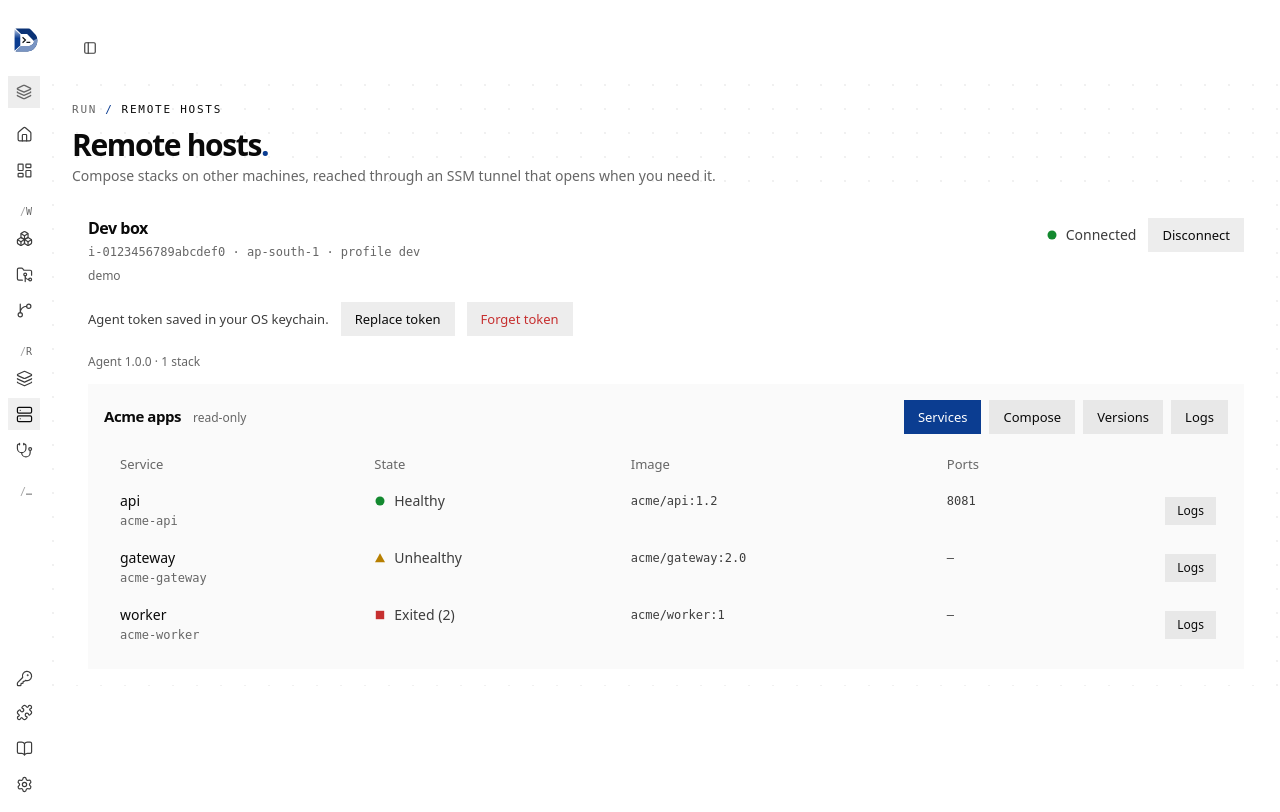
Test: the Remote hosts page › follows the logs of all services, or of the one picked
Click the tab "Logs". click: (1200, 417)
box: [1171, 400, 1228, 434]
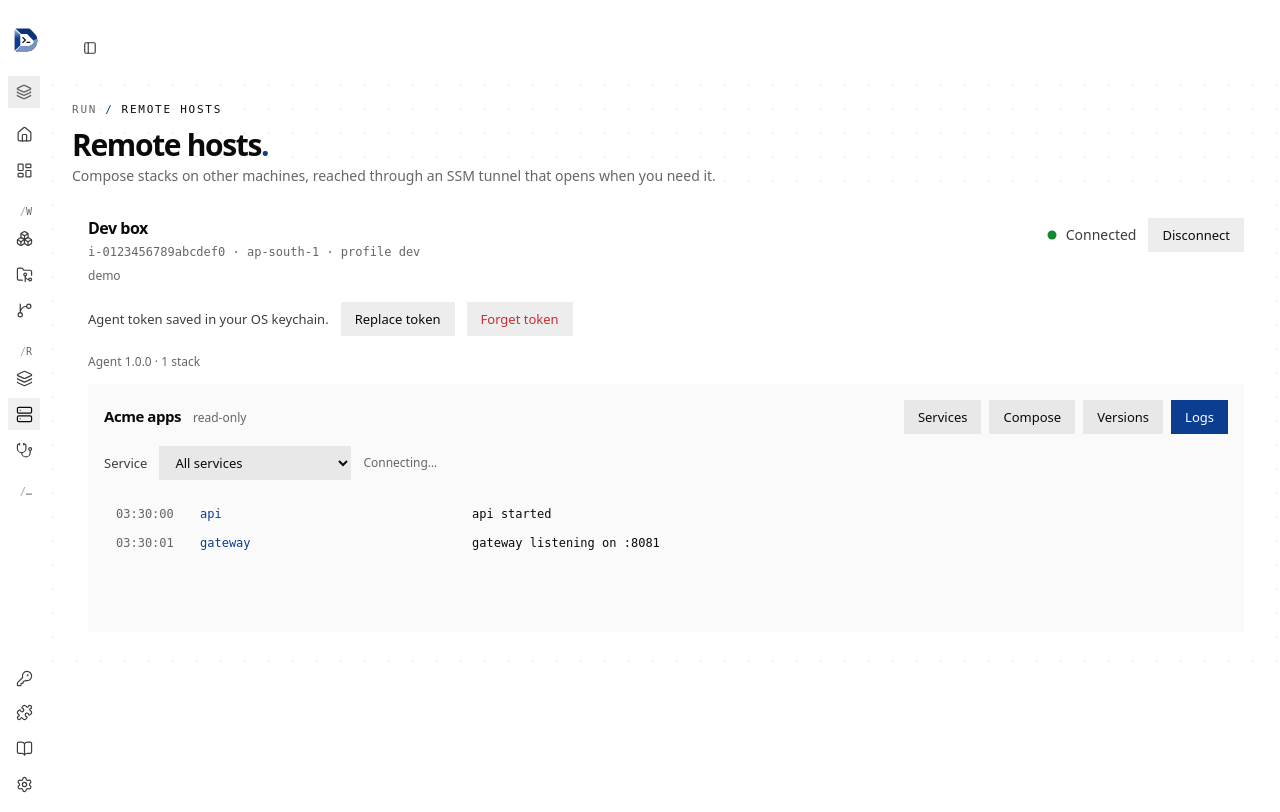
Expected: the text "api started" is shown, [472, 507, 552, 521]
Expected: the text "gateway listening on :8081" is shown, [472, 536, 660, 550]
// the Logs button of a row opens the logs of that service
Click the tab "Services". click: (943, 417)
box: [904, 400, 982, 434]
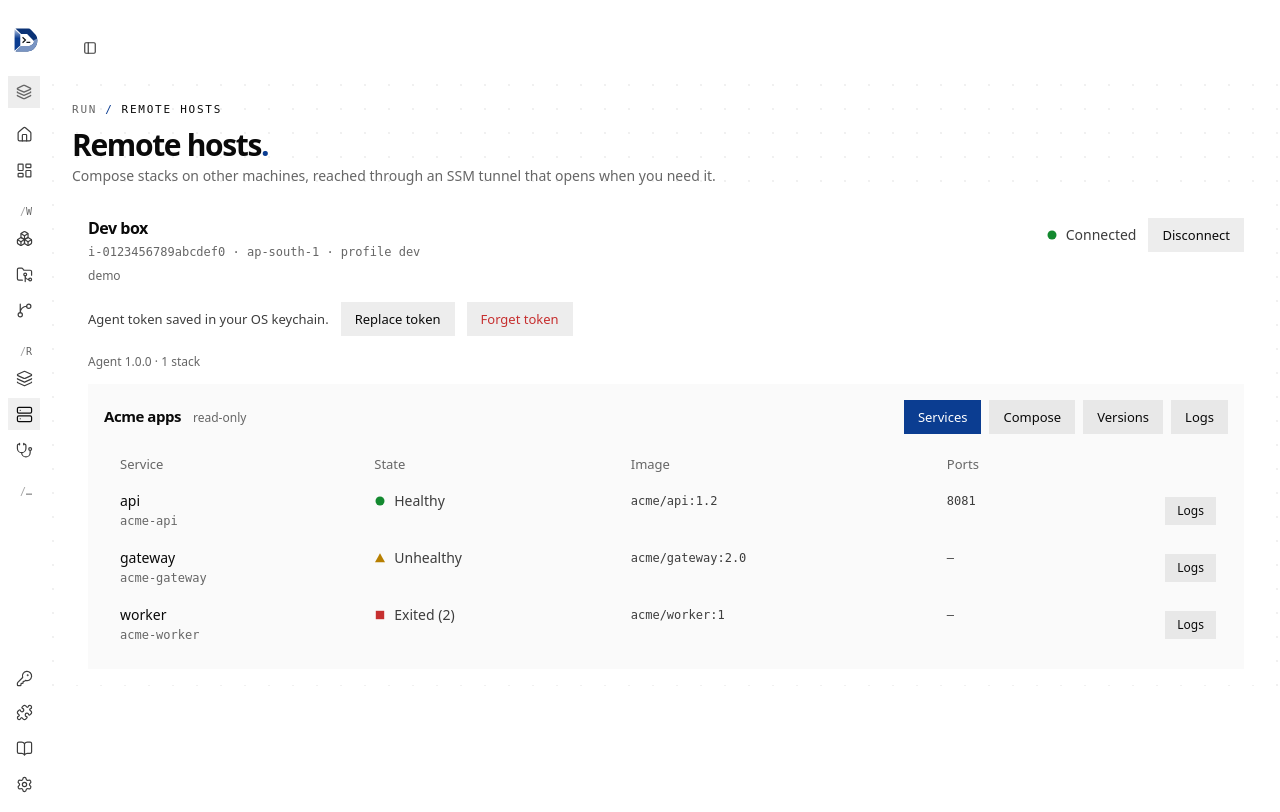
Click the button with aria-label "Logs of worker". click: (1191, 625)
box: [1165, 611, 1216, 639]
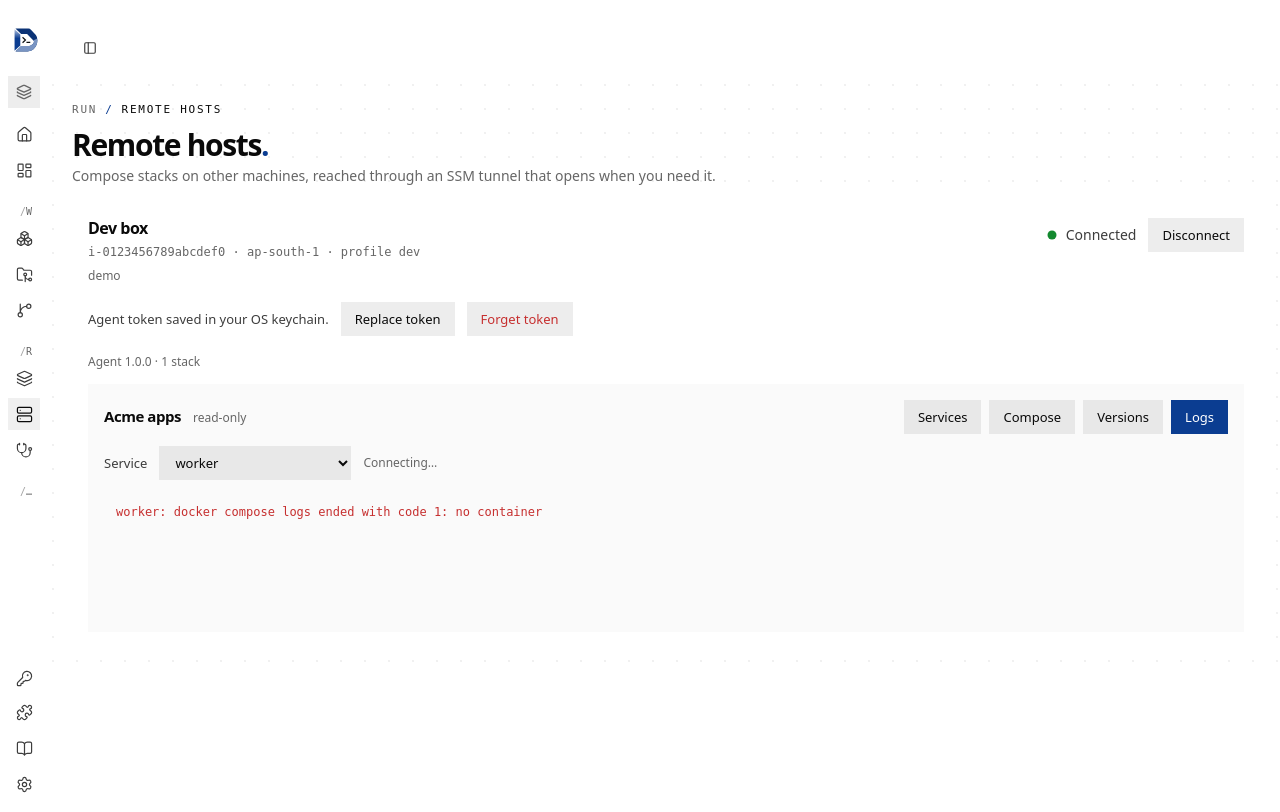
Expected: the text "worker: docker compose logs ended with code 1: no container" is shown, [116, 505, 542, 519]
Expected: the dropdown labelled "Service" shows "worker", [159, 446, 351, 480]
